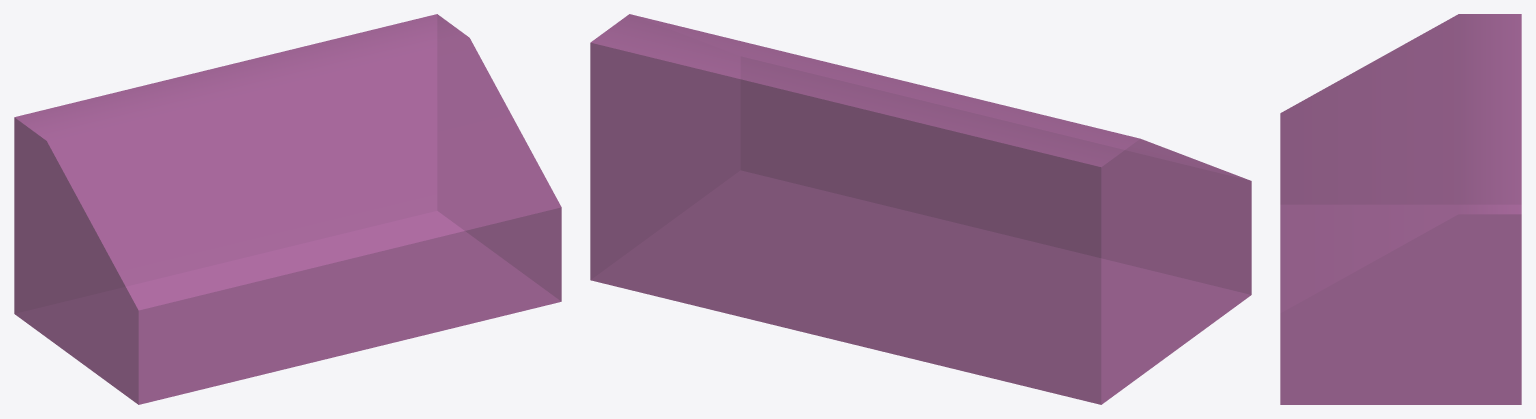
File: SM_Bld_Base_Stair_Half_01_Collision.fbx
The picture shows the model from 3 angles, left to right: view 1: azimuth 30°, elevation 25°; view 2: azimuth 150°, elevation 25°; view 3: azimuth 270°, elevation 25°; orthographic projection. The views are drawn at different scales.
Visible parts, largest first — view 1: SM_Bld_Base_Stair_Half_01_Collision; view 2: SM_Bld_Base_Stair_Half_01_Collision; view 3: SM_Bld_Base_Stair_Half_01_Collision.
Boxes of the visible parts, x1,y1,x2,y2 form: SM_Bld_Base_Stair_Half_01_Collision: [14, 14, 561, 404]; SM_Bld_Base_Stair_Half_01_Collision: [590, 14, 1251, 404]; SM_Bld_Base_Stair_Half_01_Collision: [1280, 14, 1521, 404].
Size of the model in its own units: 253 by 112 by 129.
